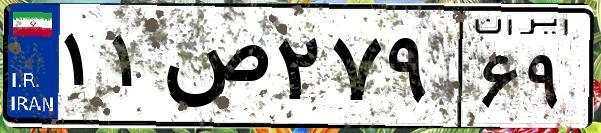1: (57, 26, 110, 100), (110, 28, 158, 98)
2: (270, 28, 330, 110)
6: (475, 38, 525, 113)
7: (330, 28, 385, 110)
9: (385, 28, 445, 110), (525, 38, 570, 115)
ص: (158, 20, 270, 120)
